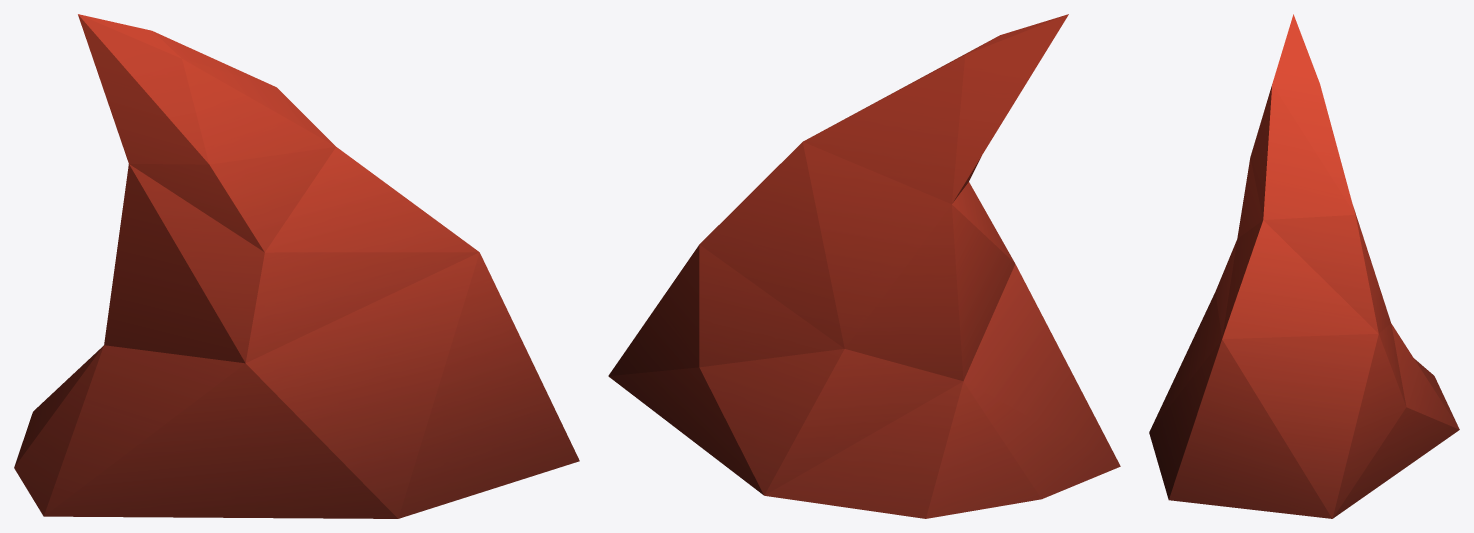
The model's file is Spiky_Rock_3.fbx.
The picture shows the model from 3 angles, left to right: view 1: azimuth 30°, elevation 25°; view 2: azimuth 150°, elevation 25°; view 3: azimuth 270°, elevation 25°; orthographic projection. The views are drawn at different scales.
Visible parts, largest first — view 1: Spiky_Rock_3; view 2: Spiky_Rock_3; view 3: Spiky_Rock_3.
Part boxes in pixels (box(x1,y1,x2,y2)): Spiky_Rock_3: box(14, 14, 579, 518); Spiky_Rock_3: box(608, 14, 1120, 518); Spiky_Rock_3: box(1149, 14, 1459, 518).
Size of the model in its own units: 253 by 228 by 187.
Materials: 1 (1 with a texture image).
